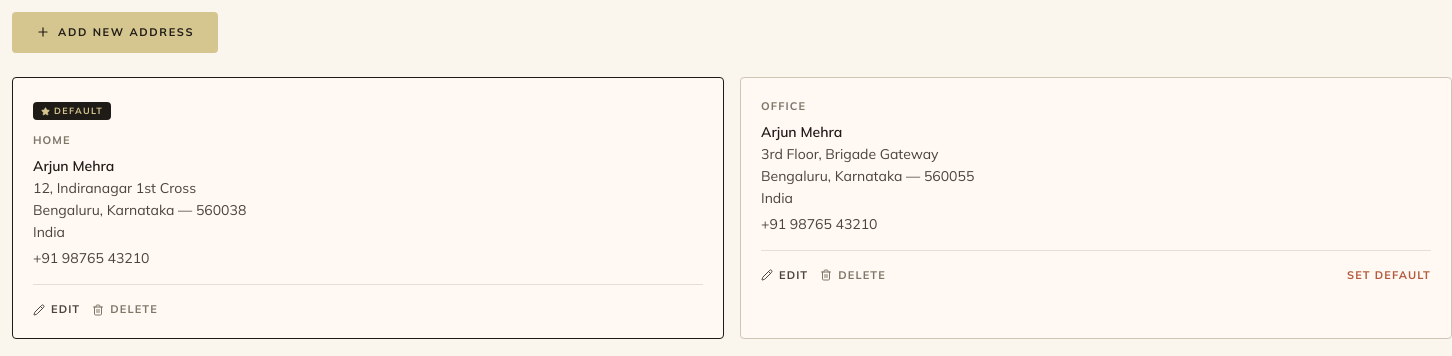
Test case: AddressBook › promotes a non-default address to default when "Set Default" is clicked
Click the button with test id "set-default-addr_02" at (1389, 275), box [1347,267,1431,284]
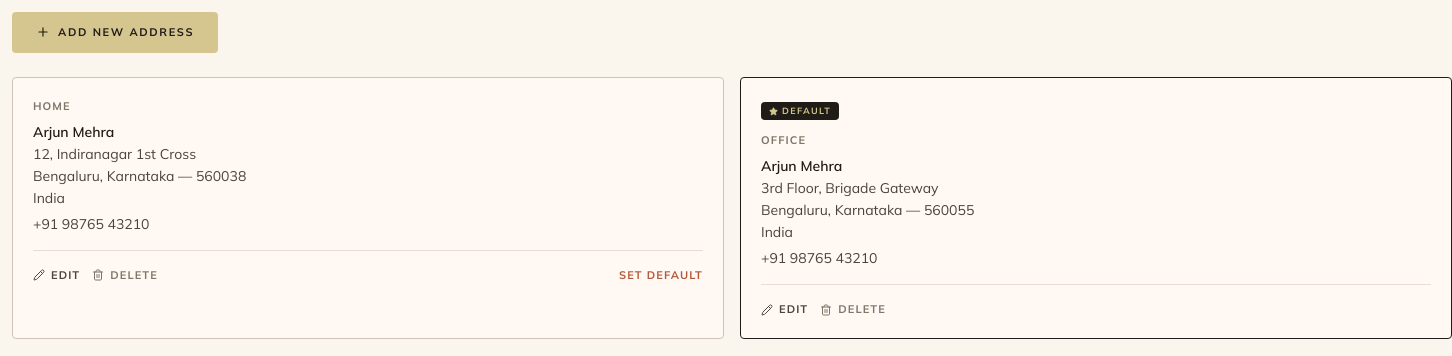
Expected: the button with test id "set-default-addr_02" is gone
Expected: the button with test id "set-default-addr_01" is shown, [619,267,703,284]
